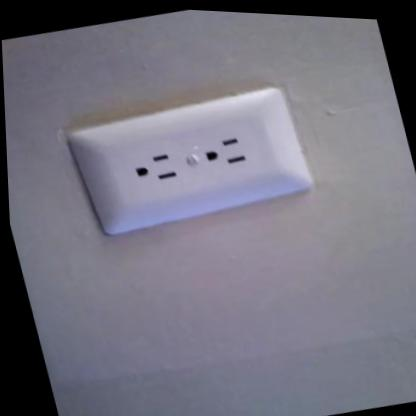OUTLET: (65, 73, 314, 248)
